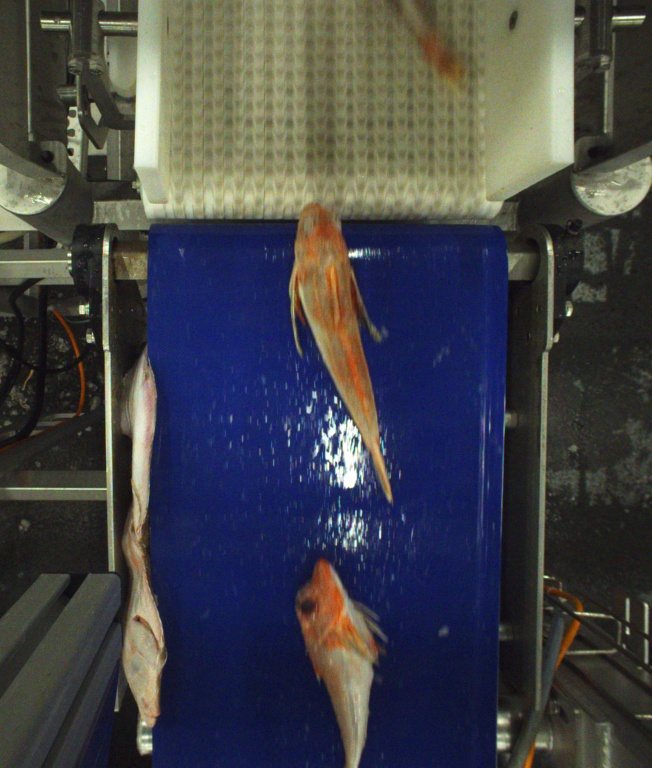GUU: (289, 202, 395, 505)
